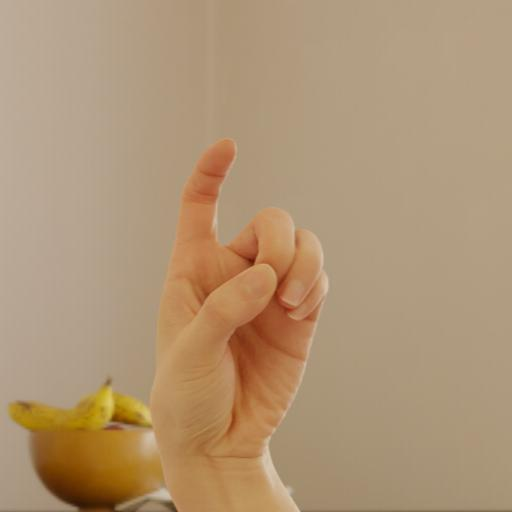X: (136, 126, 336, 494)
